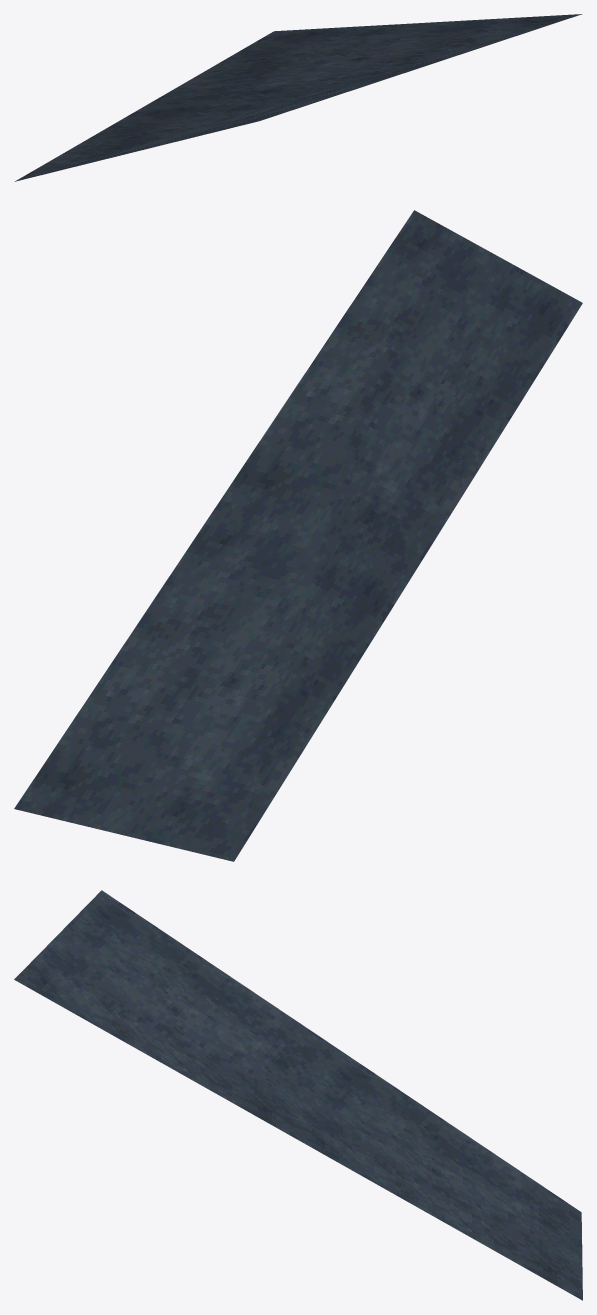
Rendered from Ramp_top.glb.
3 renders of one model, top to bottom at view 1: azimuth 30°, elevation 25°; view 2: azimuth 150°, elevation 25°; view 3: azimuth 270°, elevation 25°, orthographic. The views are drawn at different scales.
Visible parts, largest first — view 1: Ramp_top; view 2: Ramp_top; view 3: Ramp_top.
Part boxes in pixels (left/top/right/bottom): Ramp_top: left=14, top=14, right=582, bottom=181; Ramp_top: left=14, top=210, right=582, bottom=861; Ramp_top: left=14, top=890, right=582, bottom=1300.
Size of the model in its own units: 1796 by 2227 by 3848.
Materials: 1 (1 with a texture image).
